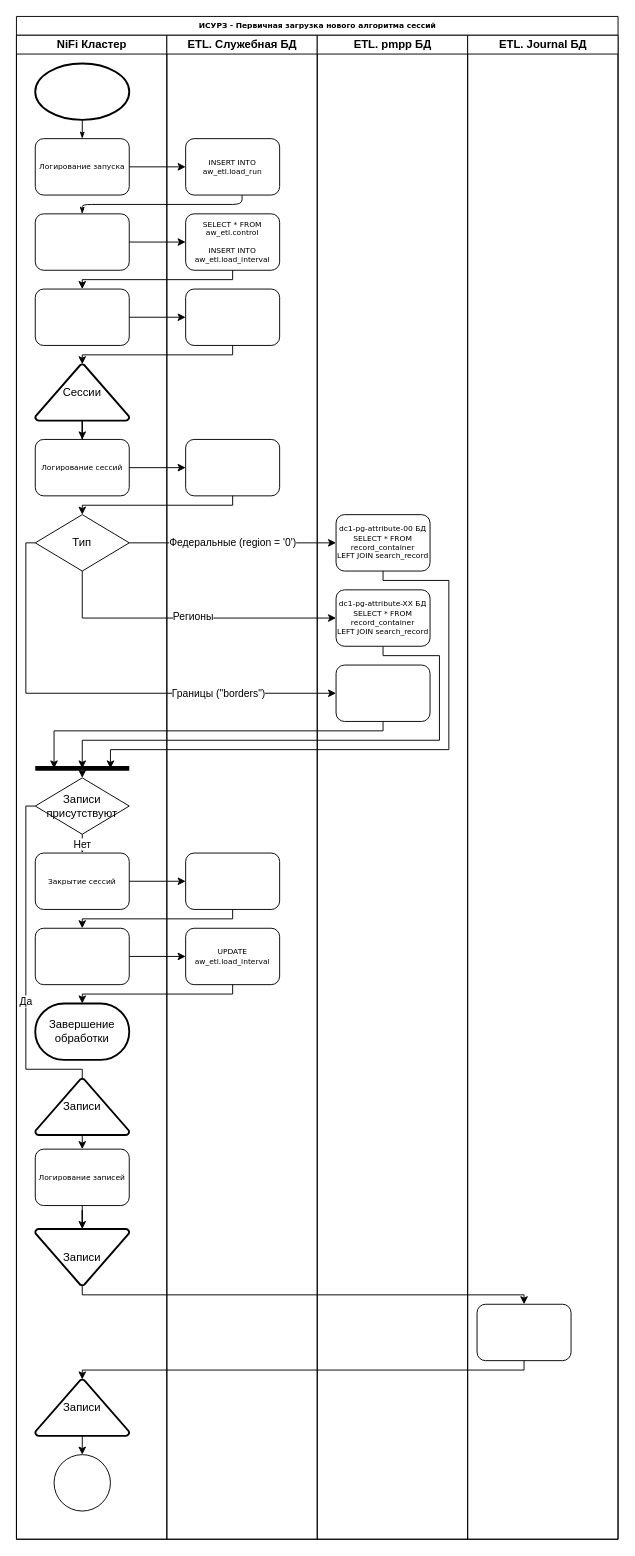
The diagram is 635 pixels wide and 1556 high, and some of its shapes have lost their labels. The shapes that lost their labels are listed below. From the top down, each one's centre as x and y in pixels, then its label:
(82,91): Старт по расписанию
(81,241): Вычисление интервала
(81,316): Вычисление регионов и периодов
(232,316): CROSS JOIN aw_etl.isurz_shard_keys
(232,467): INSERT INTO aw_etl.load_session
(382,692): dc1-pg-attribute-XX БД SELECT * FROM record_containe
(232,880): UPDATE aw_etl.load_session
(81,956): Обновление интервалов
(523,1332): INSERT INTO journal.file
(81,1482): К получению файлов РЗ
